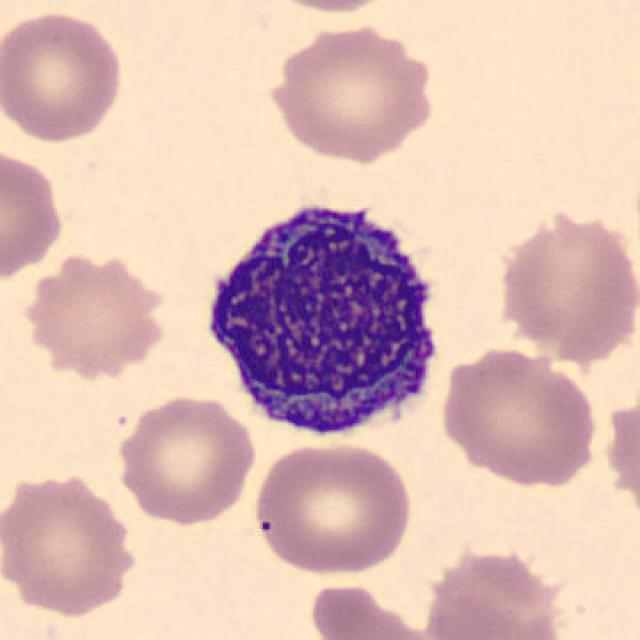Monocyte: (190, 187, 455, 449)
RBC: (259, 19, 441, 164), (436, 342, 602, 488), (492, 203, 638, 365), (251, 437, 416, 577), (0, 467, 144, 621), (13, 248, 169, 386), (112, 392, 258, 528), (0, 7, 130, 145), (414, 543, 578, 640), (0, 141, 68, 287), (304, 580, 444, 640), (599, 384, 640, 514), (252, 0, 406, 16)
